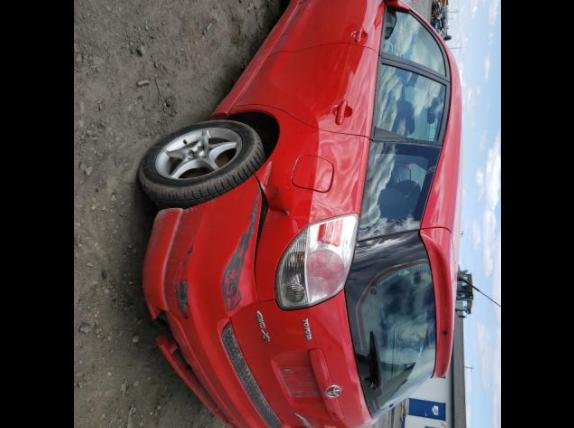Broken part: (141, 208, 241, 428), (248, 172, 273, 291)
Dent: (258, 173, 291, 226)
Missing part: (281, 364, 320, 400)
Scratch: (223, 190, 257, 311), (175, 245, 192, 317), (298, 413, 315, 428)
